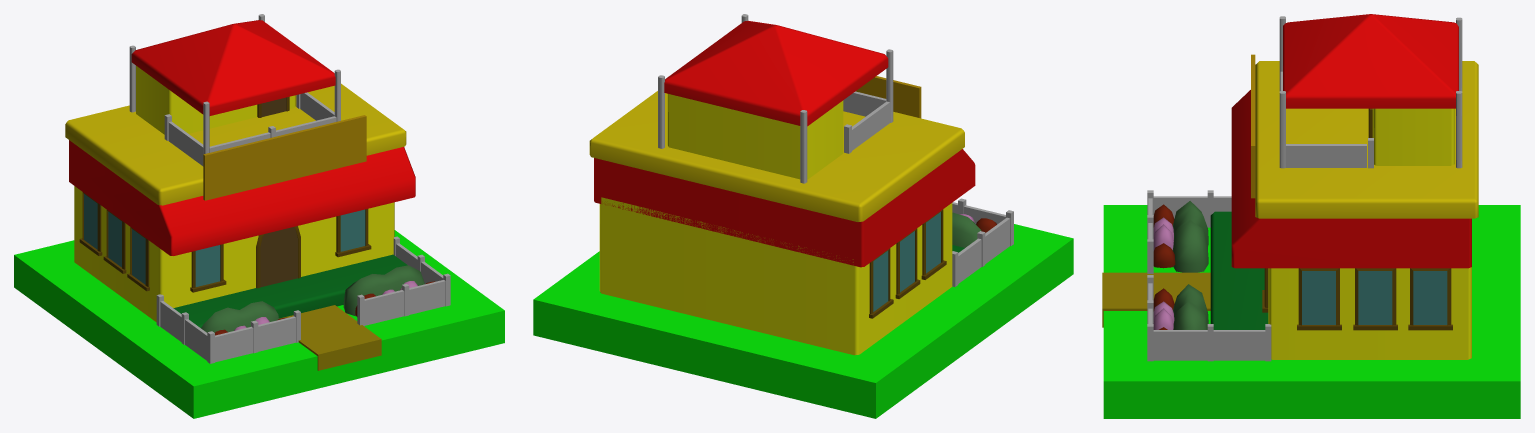
Rendered from ItalConcept01_SM.fbx.
The picture shows the model from 3 angles, left to right: view 1: azimuth 30°, elevation 25°; view 2: azimuth 150°, elevation 25°; view 3: azimuth 270°, elevation 25°; orthographic projection. The views are drawn at different scales.
Parts seen in each view (by area): view 1: group14; view 2: group14; view 3: group14.
Part boxes in pixels (x1,y1,x2,y2): group14: (14, 14, 504, 418); group14: (533, 14, 1073, 418); group14: (1102, 14, 1520, 418).
Bounding box in the file's own units: 100 × 83.48 × 100.
